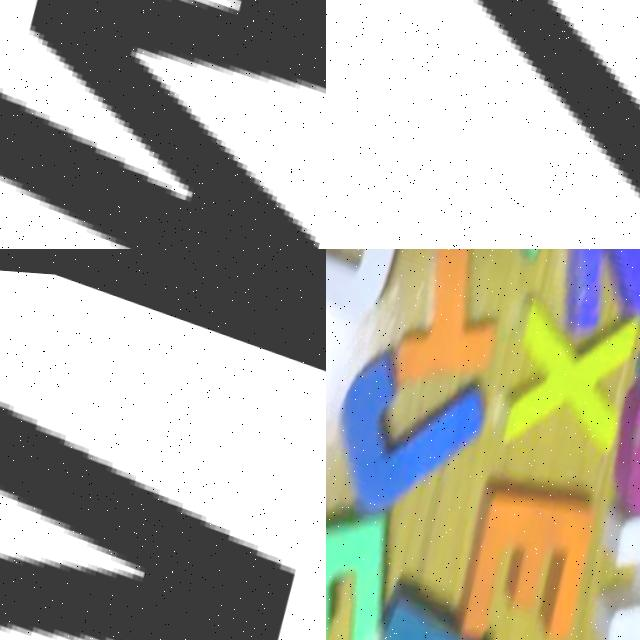E: (440, 451, 605, 640)
F: (326, 483, 406, 640)
G: (602, 345, 640, 527)
H: (579, 462, 640, 640)
I: (343, 249, 542, 412)
J: (326, 334, 495, 547)
M: (0, 0, 326, 249)
N: (0, 282, 326, 640), (534, 249, 640, 340)
X: (497, 272, 640, 454)
Z: (326, 0, 640, 232)
